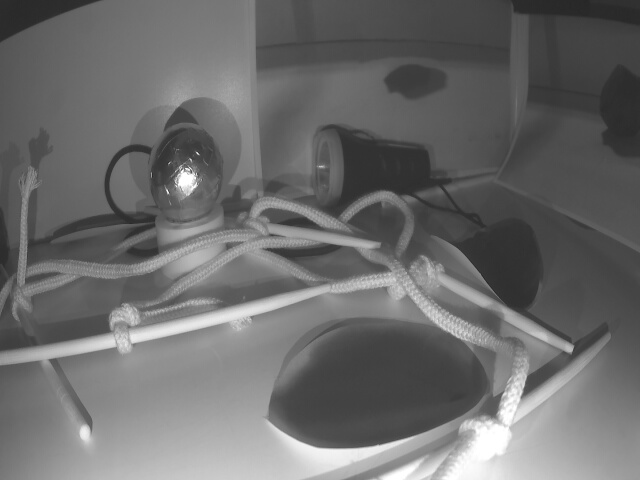Live: (151, 125, 226, 222)
